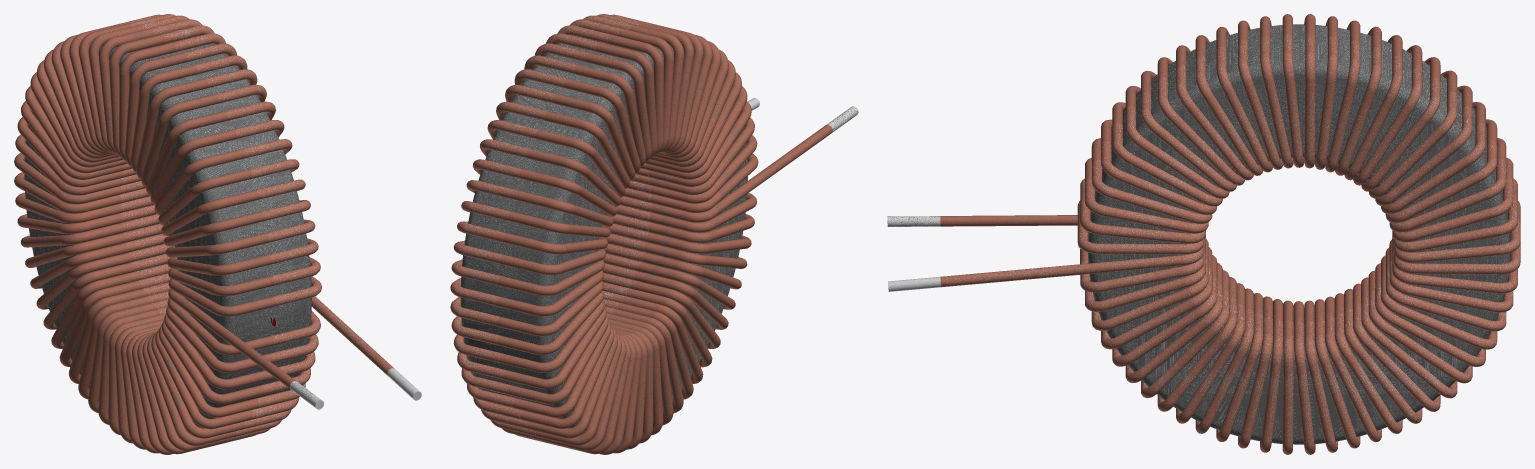
File: toroidal-Inductor.dae
3 renders of one model, left to right at view 1: azimuth 30°, elevation 25°; view 2: azimuth 150°, elevation 25°; view 3: azimuth 270°, elevation 25°, orthographic. The views are drawn at different scales.
Parts seen in each view (by area): view 1: Component_3 (×85), Component_1, Component_12 (×4), Component_8; view 2: Component_3 (×85), Component_1, Component_8, Component_12; view 3: Component_3 (×59), Component_1 (×2), Component_12 (×2), Component_9.
Part boxes in pixels (x1,y1,x2,y2): Component_3 (×85): (14,19,321,454); Component_1: (24,35,311,433); Component_12 (×4): (212,298,421,409); Component_8: (168,288,218,330); Component_3 (×85): (450,19,758,454); Component_1: (460,35,747,433); Component_8: (650,180,755,222); Component_12: (749,124,832,187); Component_3 (×59): (1077,34,1520,454); Component_1 (×2): (1088,24,1510,444); Component_12 (×2): (940,215,1098,287); Component_9: (1098,246,1203,272).
Size of the model in its own units: 0.9449 by 4.72 by 3.3.
